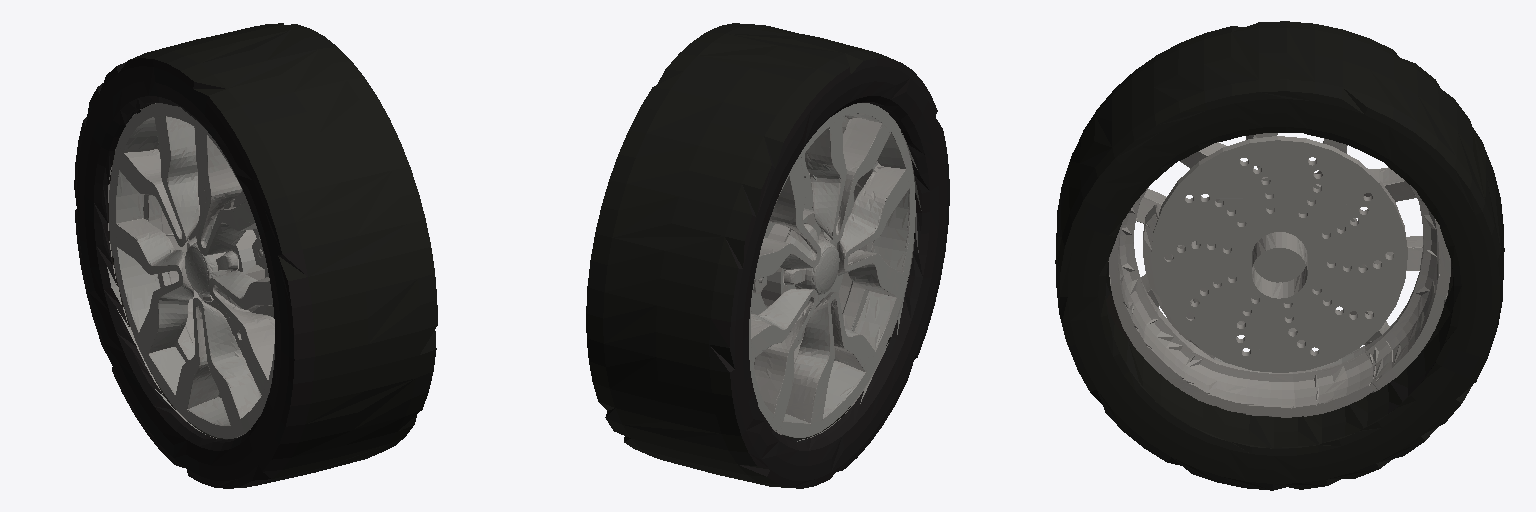
3 views of the same model, side by side, from view 1: azimuth 30°, elevation 25°; view 2: azimuth 150°, elevation 25°; view 3: azimuth 270°, elevation 25° (orthographic).
Visible parts, largest first — view 1: RuedaIzqFro; view 2: RuedaIzqFro; view 3: RuedaIzqFro.
Part boxes in pixels (x1,y1,x2,y2): RuedaIzqFro: (74, 23, 437, 488); RuedaIzqFro: (586, 23, 949, 488); RuedaIzqFro: (1055, 21, 1504, 490).
Bounding box in the file's own units: 0.3784 × 1.01 × 1.01.
1 materials, 1 textured.